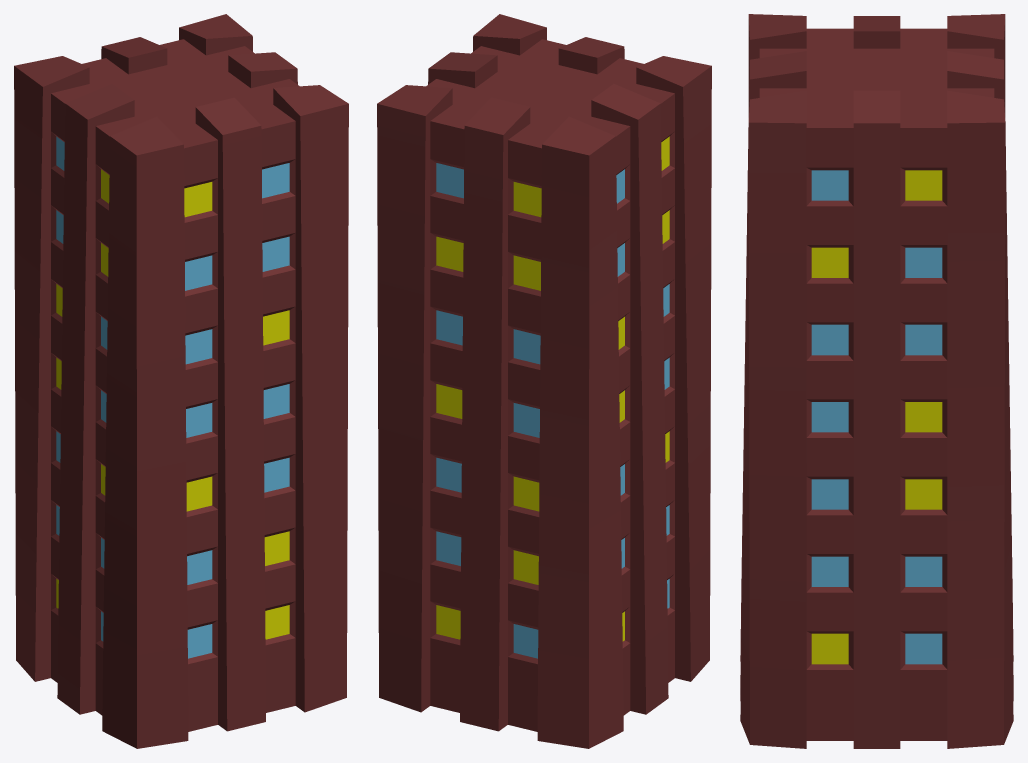
Rendered from Building3.fbx.
3 renders of one model, left to right at view 1: azimuth 30°, elevation 25°; view 2: azimuth 150°, elevation 25°; view 3: azimuth 270°, elevation 25°, orthographic. The views are drawn at different scales.
Parts seen in each view (by area): view 1: pCube3; view 2: pCube3; view 3: pCube3.
Boxes of the visible parts, x1,y1,x2,y2 form: pCube3: [14, 14, 348, 748]; pCube3: [377, 14, 711, 748]; pCube3: [740, 14, 1013, 748].
Bounding box in the file's own units: 9.55 × 24.31 × 9.55.
